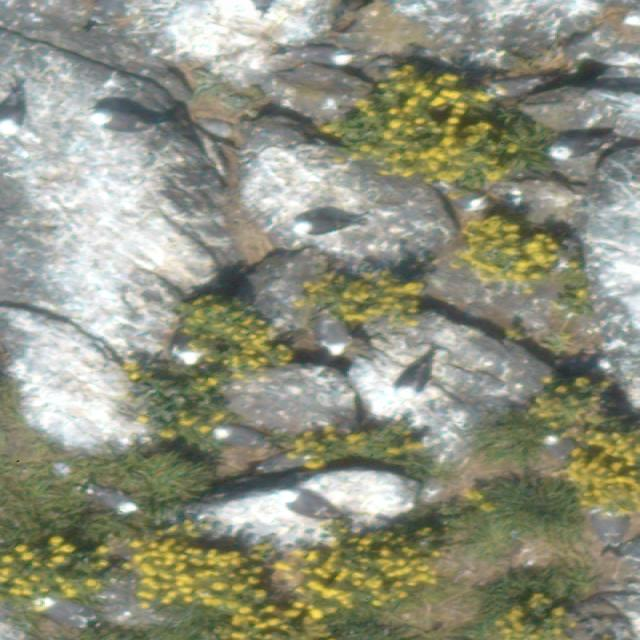umineko: (272, 489, 339, 524), (26, 594, 85, 630), (396, 358, 436, 408), (86, 106, 156, 134), (437, 180, 493, 213), (319, 312, 355, 358), (293, 44, 355, 68), (1, 88, 30, 138), (294, 216, 359, 237), (552, 138, 616, 158), (95, 492, 133, 512), (218, 428, 247, 442), (176, 348, 198, 363)
